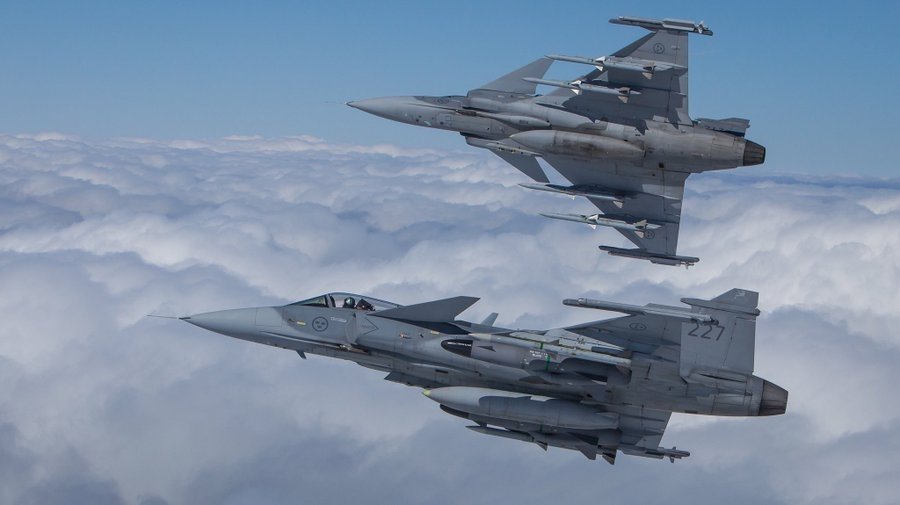JAS39: (146, 287, 789, 465), (325, 16, 766, 270)
